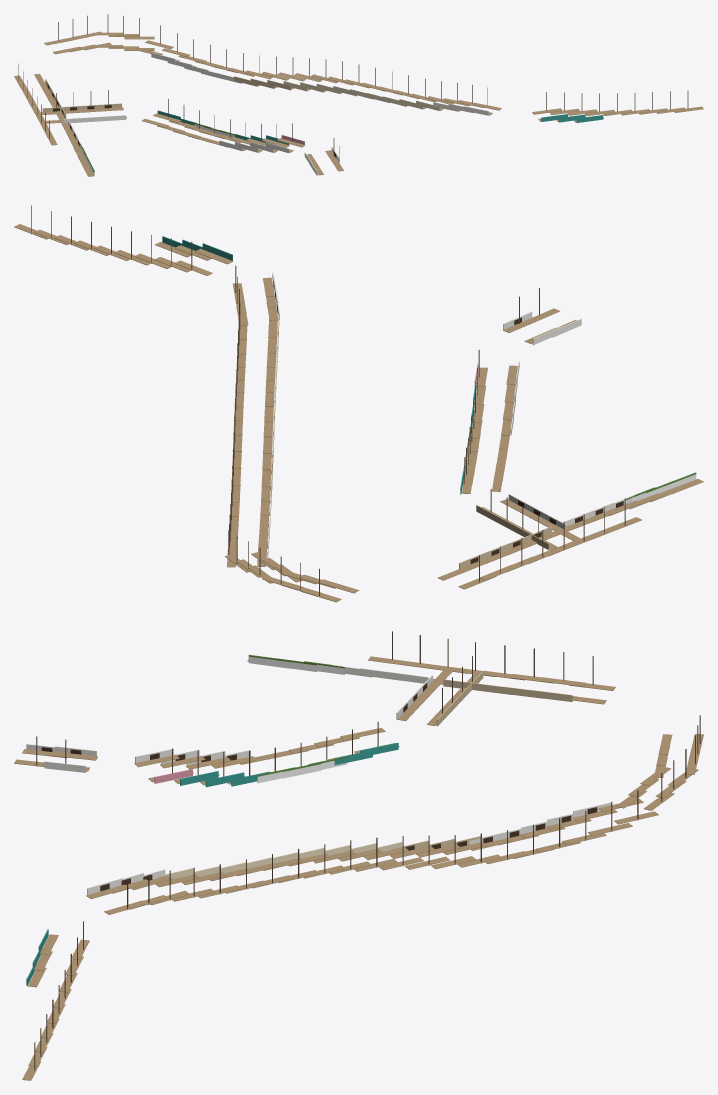
Rendered from noord_res_-28_-23.glb.
The picture shows the model from 3 angles, top to bottom: view 1: azimuth 30°, elevation 25°; view 2: azimuth 150°, elevation 25°; view 3: azimuth 270°, elevation 25°; orthographic projection. The views are drawn at different scales.
Parts seen in each view (by area): view 1: noord_res_-28_-23_lod0; view 2: noord_res_-28_-23_lod0; view 3: noord_res_-28_-23_lod0.
Part boxes in pixels (left/top/right/bottom): noord_res_-28_-23_lod0: left=14, top=14, right=703, bottom=176; noord_res_-28_-23_lod0: left=14, top=205, right=703, bottom=602; noord_res_-28_-23_lod0: left=14, top=631, right=703, bottom=1080.
Size of what is drawn, in the model's own units: 249 by 23.2 by 178.
